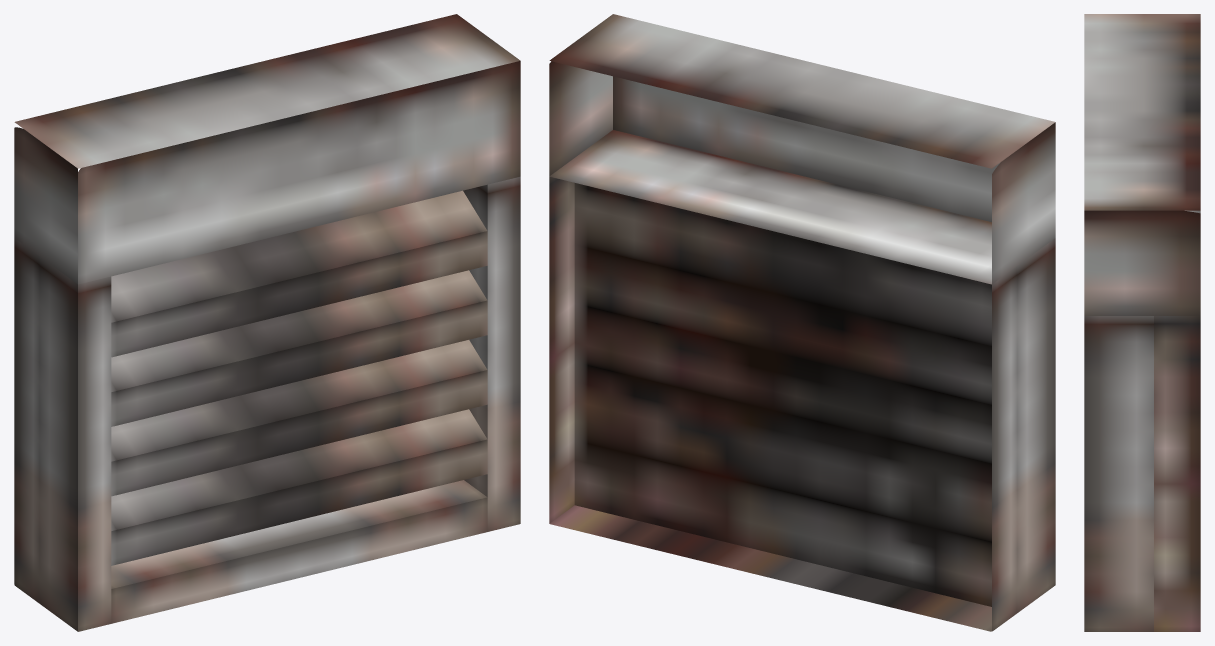
Rendered from Poly_SF_Outside_B_Exhaust_Port_Wall_01.obj.
3 renders of one model, left to right at view 1: azimuth 30°, elevation 25°; view 2: azimuth 150°, elevation 25°; view 3: azimuth 270°, elevation 25°, orthographic. The views are drawn at different scales.
Visible parts, largest first — view 1: Cube.004, Cube.001, Cube.003, Cube.002; view 2: Cube.002, Cube.001, Cube.003; view 3: Cube.001, Cube.003, Cube.002.
Part boxes in pixels (bbox=[...]): Cube.004: bbox=[111, 190, 487, 565]; Cube.001: bbox=[14, 14, 520, 284]; Cube.003: bbox=[39, 176, 520, 631]; Cube.002: bbox=[14, 238, 39, 603]; Cube.002: bbox=[549, 176, 1017, 631]; Cube.001: bbox=[549, 14, 1055, 284]; Cube.003: bbox=[1017, 238, 1055, 612]; Cube.001: bbox=[1084, 14, 1200, 315]; Cube.003: bbox=[1084, 316, 1153, 631]; Cube.002: bbox=[1154, 316, 1200, 631].
Bounding box in the file's own units: 0.4 × 0.4 × 0.1.
1 material, 1 textured.
